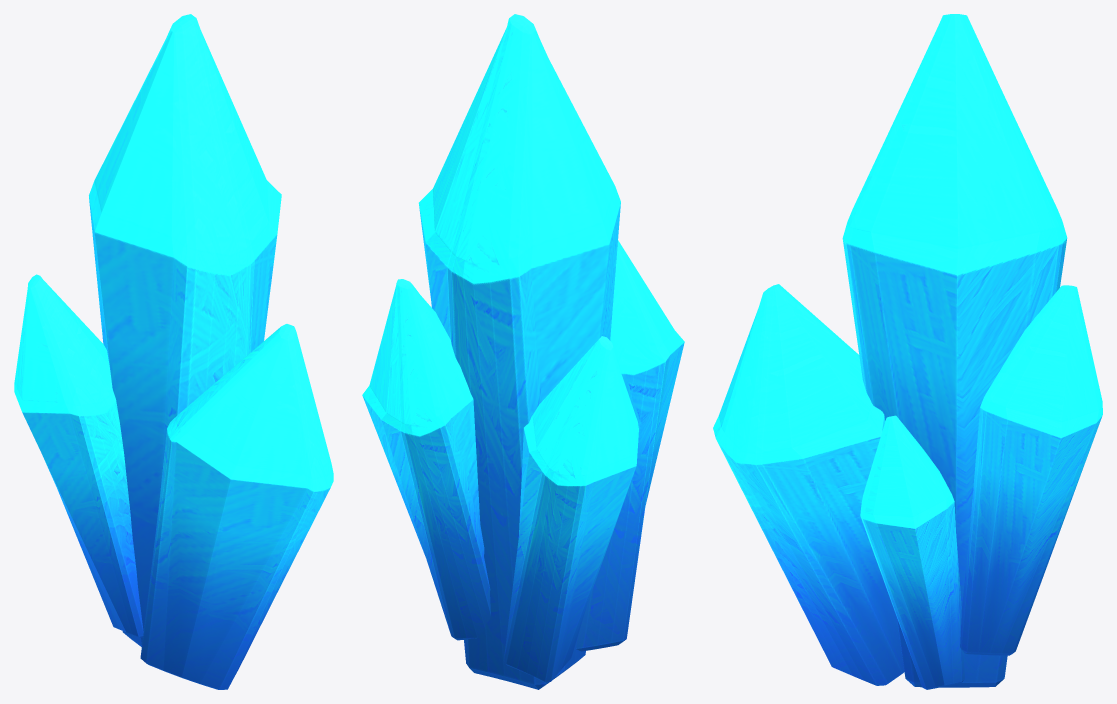
The model's file is Crystal.glb.
3 renders of one model, left to right at view 1: azimuth 30°, elevation 25°; view 2: azimuth 150°, elevation 25°; view 3: azimuth 270°, elevation 25°, orthographic. The views are drawn at different scales.
Parts seen in each view (by area): view 1: Crystal large; view 2: Crystal large; view 3: Crystal large.
Boxes of the visible parts, x1,y1,x2,y2 form: Crystal large: (14,14,333,689); Crystal large: (362,14,684,689); Crystal large: (713,14,1102,689).
Bounding box in the file's own units: 0.3216 × 0.8044 × 0.4255.
Materials: 1 (1 with a texture image).
